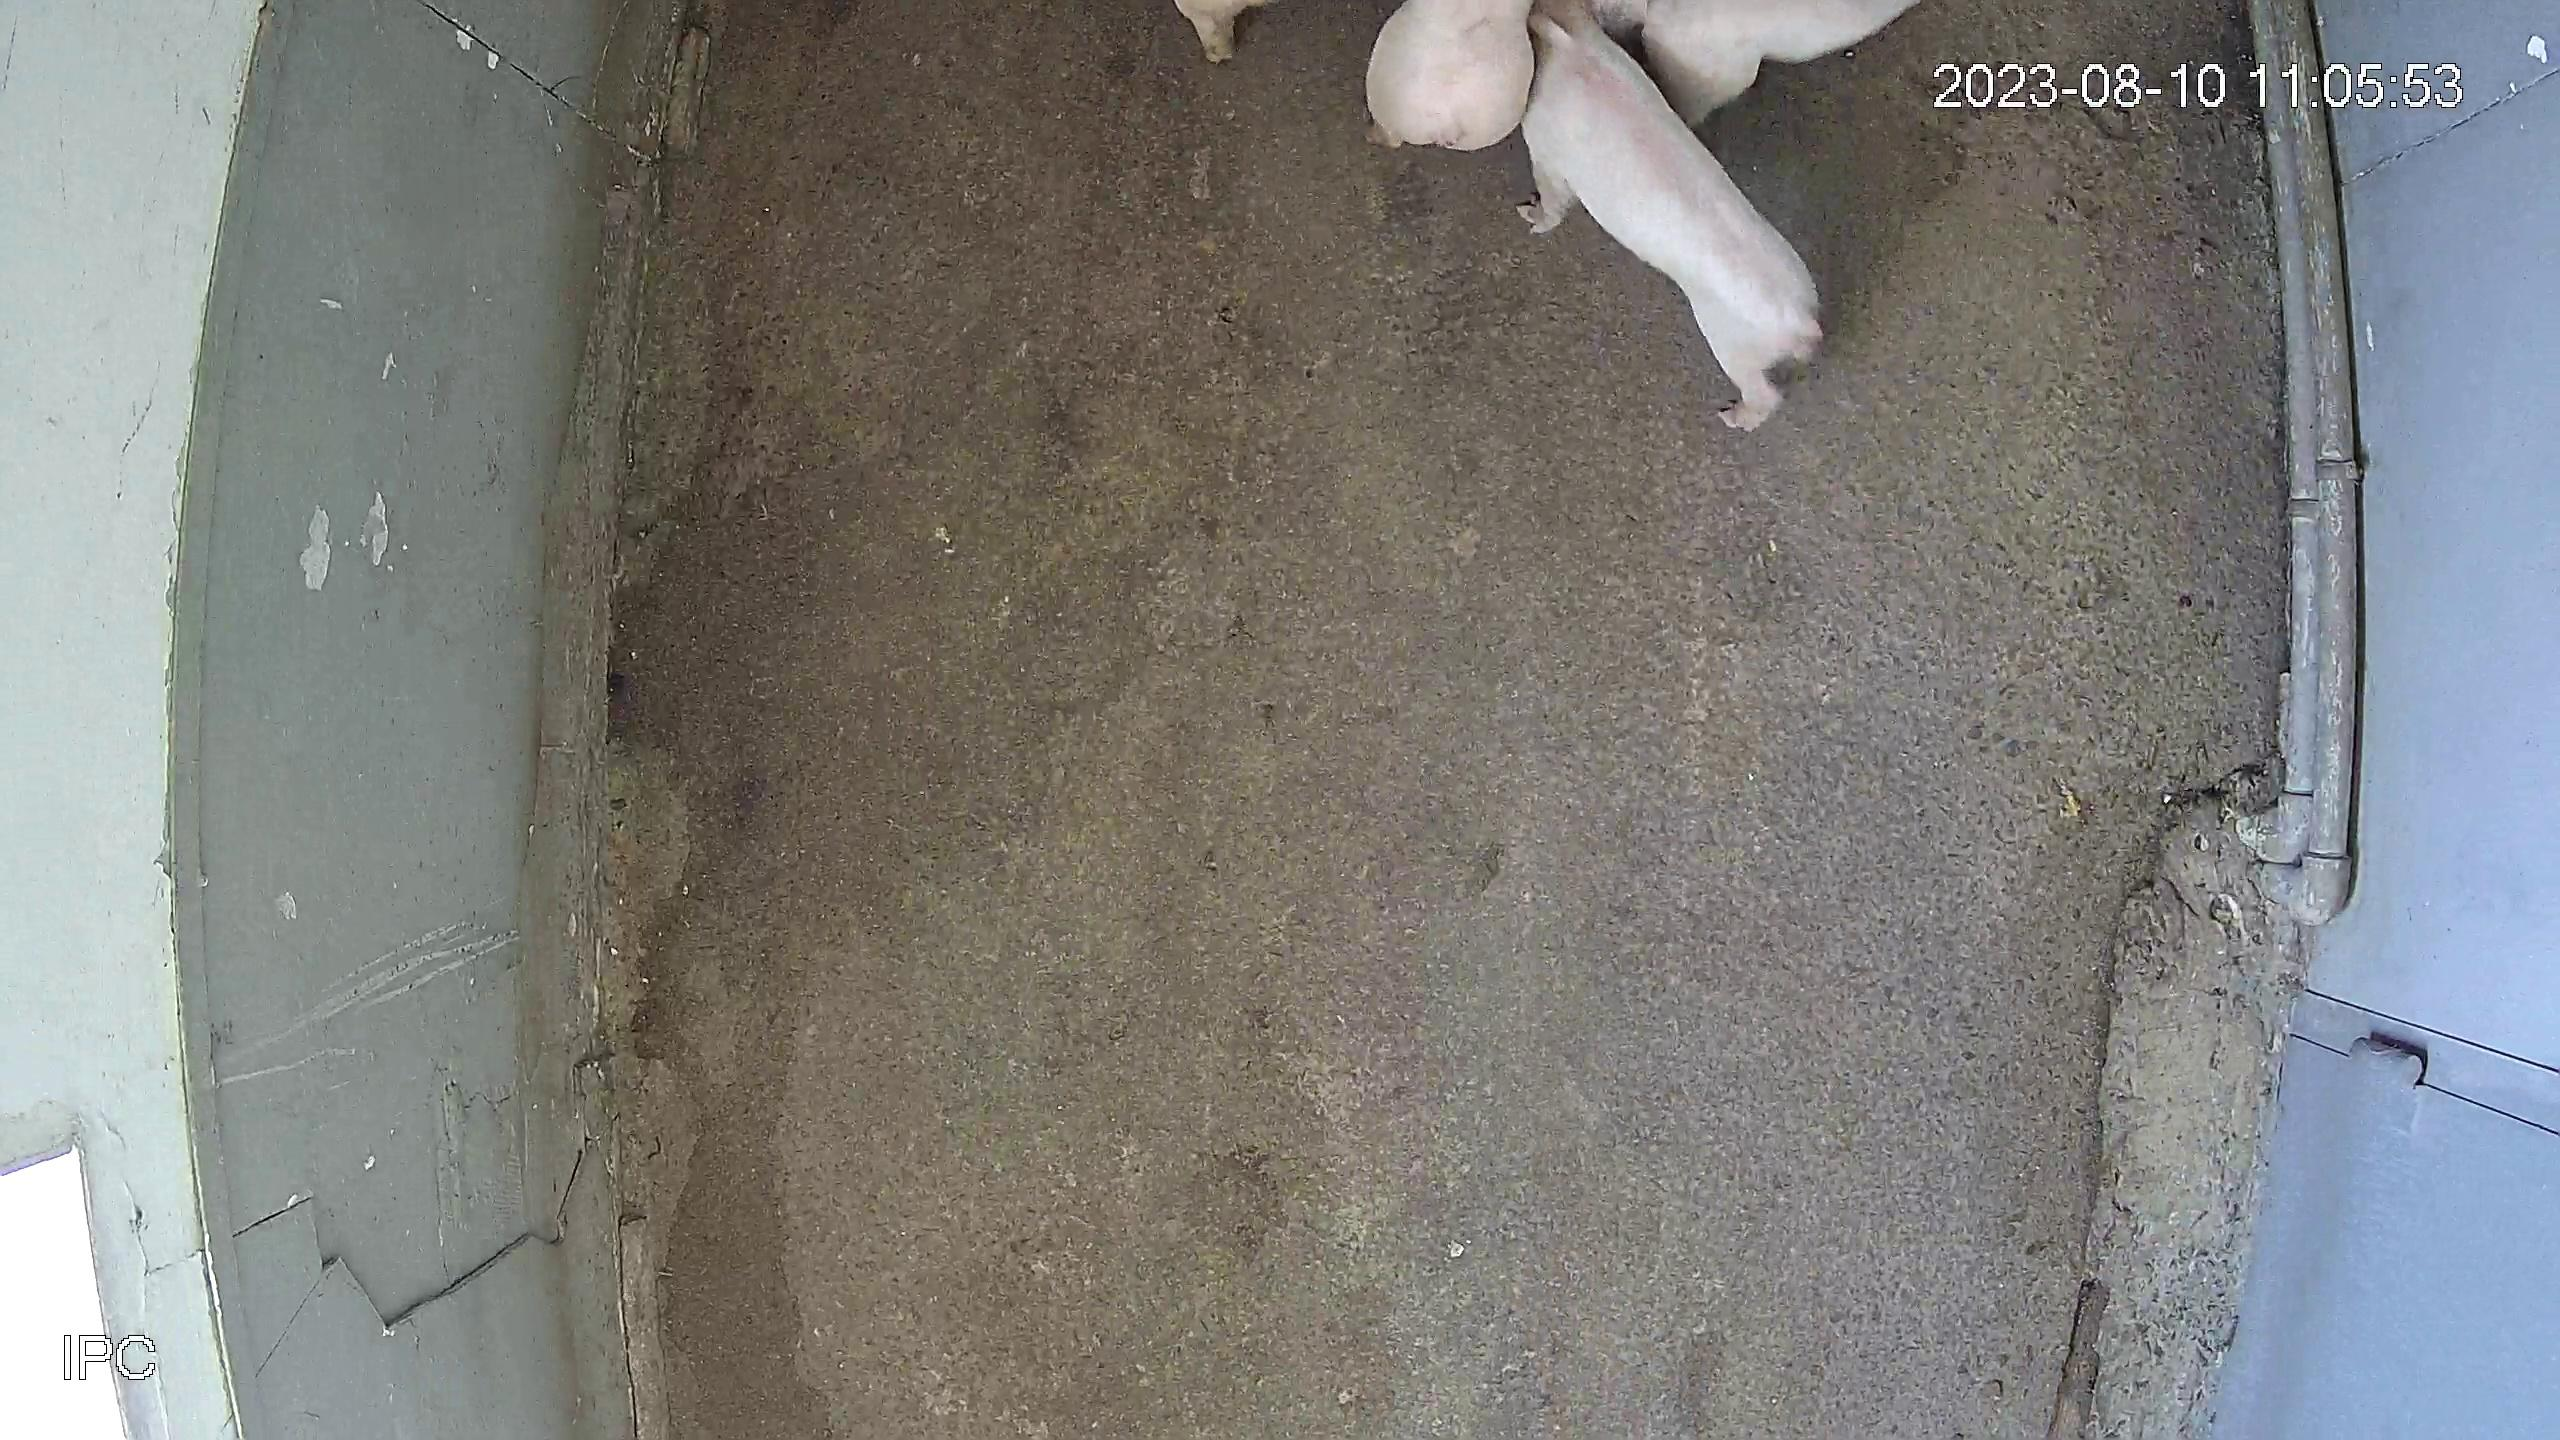Pig: (1523, 0, 1825, 427), (1632, 0, 1918, 125), (1366, 0, 1537, 146), (1175, 0, 1268, 58)
